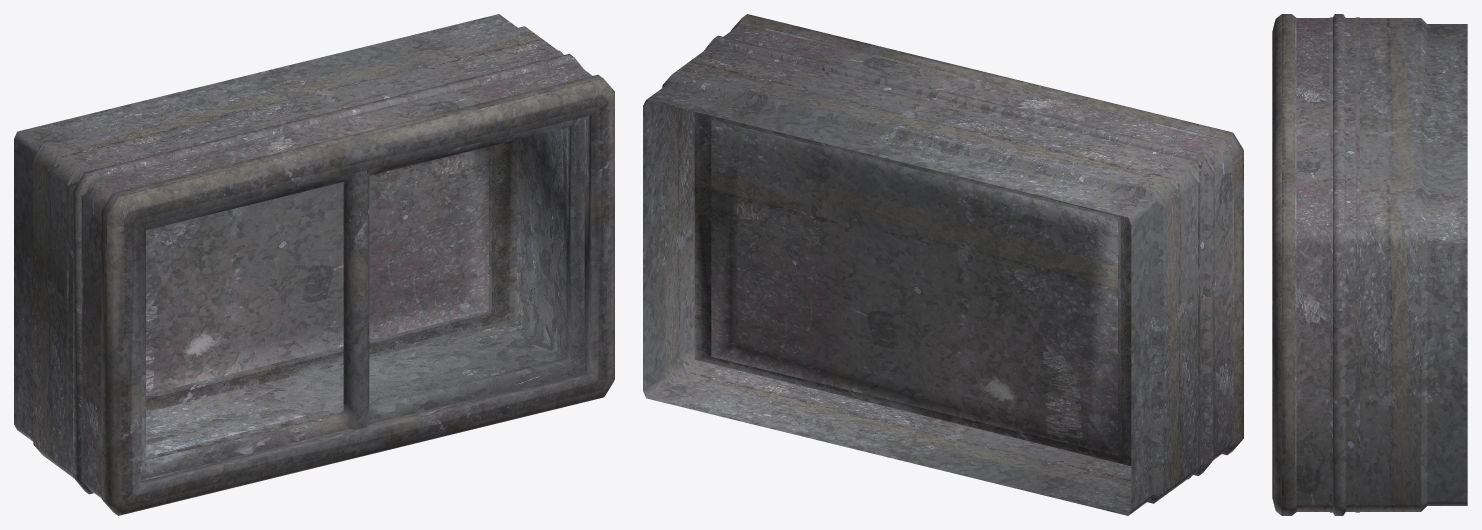
Rendered from vanillamesh.obj.
3 renders of one model, left to right at view 1: azimuth 30°, elevation 25°; view 2: azimuth 150°, elevation 25°; view 3: azimuth 270°, elevation 25°, orthographic. The views are drawn at different scales.
Visible parts, largest first — view 1: GroceryFreezer01:0; view 2: GroceryFreezer01:0; view 3: GroceryFreezer01:0.
Part boxes in pixels (<box>): GroceryFreezer01:0: <box>14,14,614,515</box>; GroceryFreezer01:0: <box>643,14,1243,515</box>; GroceryFreezer01:0: <box>1272,14,1467,515</box>.
Bounding box in the file's own units: 160 × 96 × 59.
